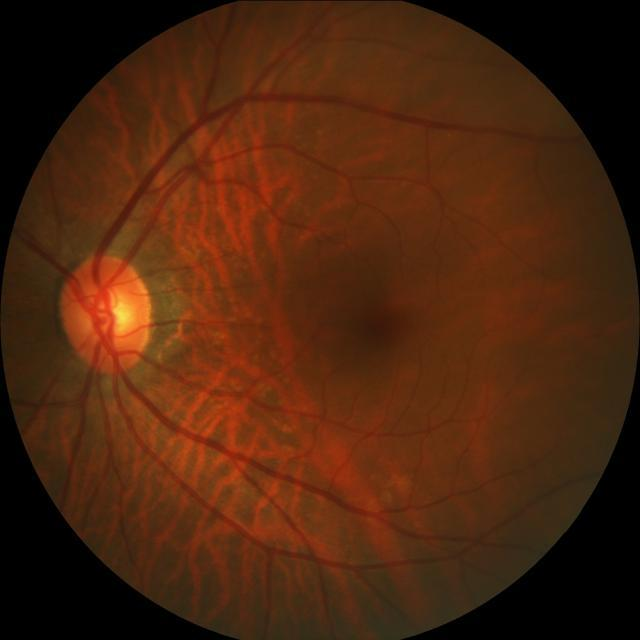OC: (98, 291, 131, 331)
OD: (59, 253, 152, 374)
